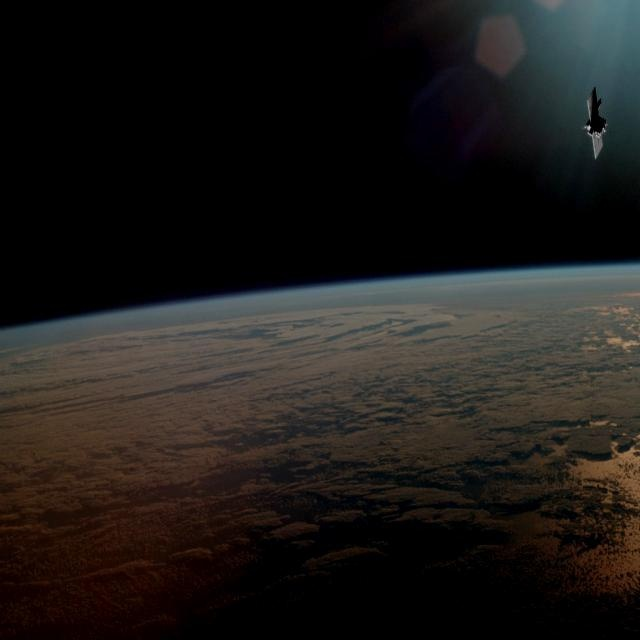satellite: (576, 76, 615, 164)
